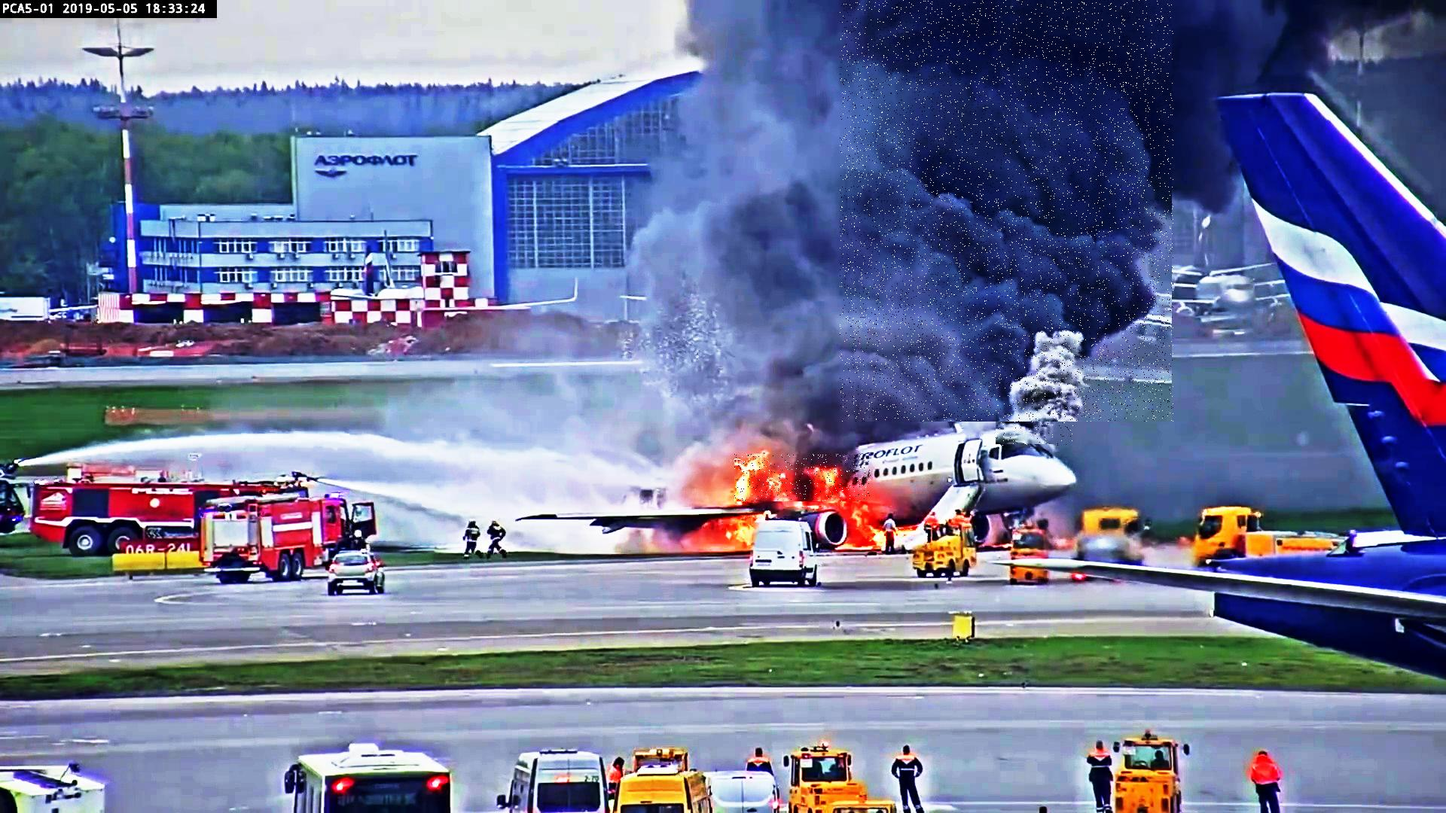fire: (735, 454, 871, 502)
smoke: (840, 0, 1174, 422), (996, 309, 1075, 446)
